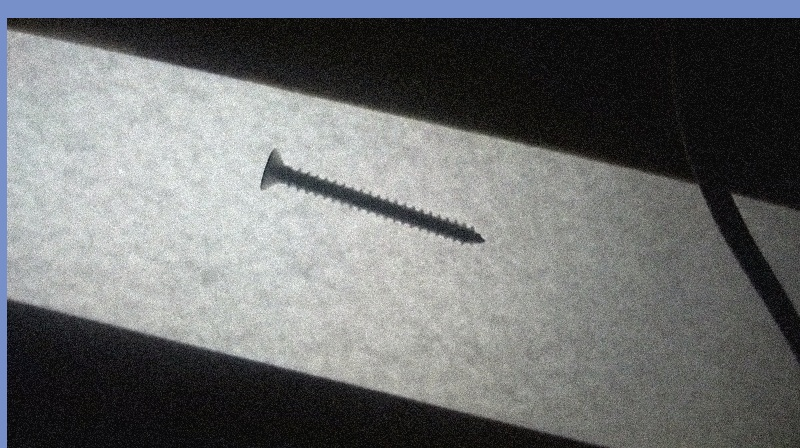S002: (255, 145, 488, 246)
